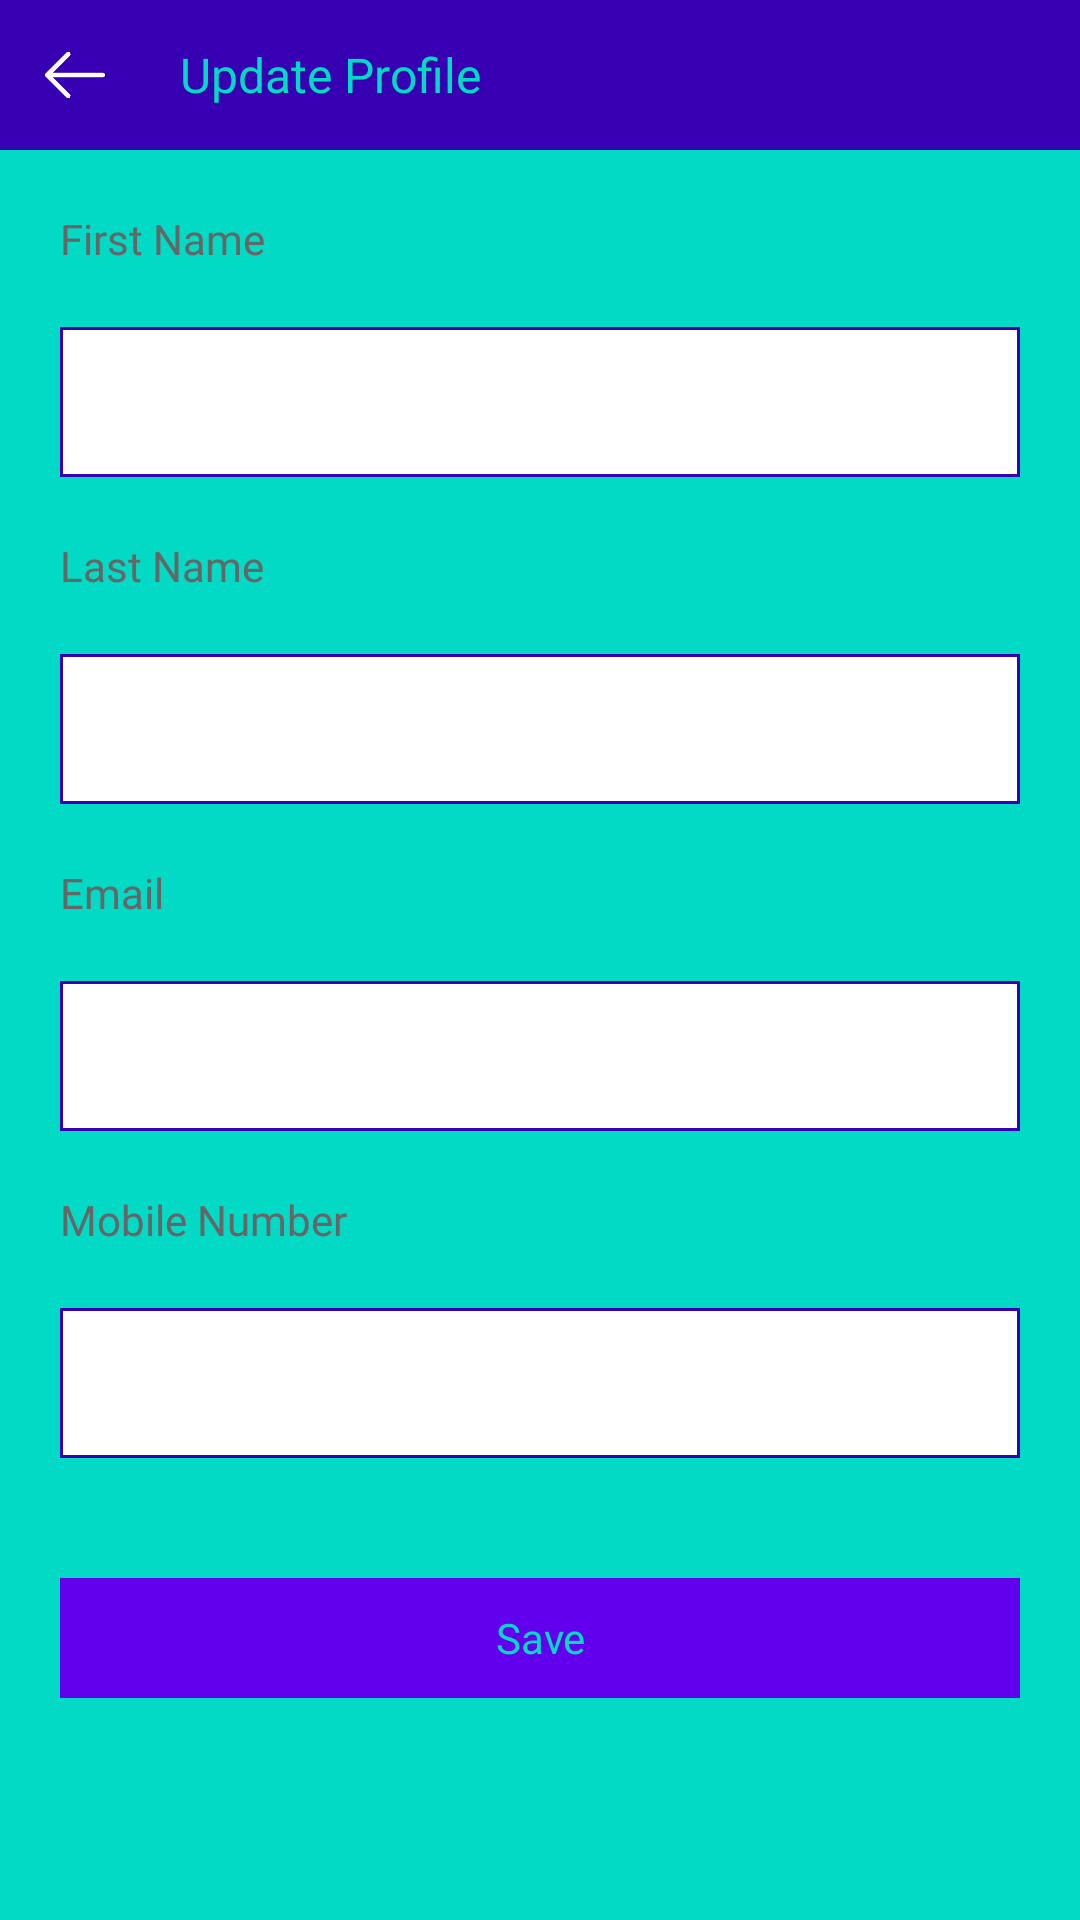

Icons on this 1080px x 1920px Android screen, each with its box as box=[x1, y1, x2, y2]:
back: box=[45, 52, 105, 98]
